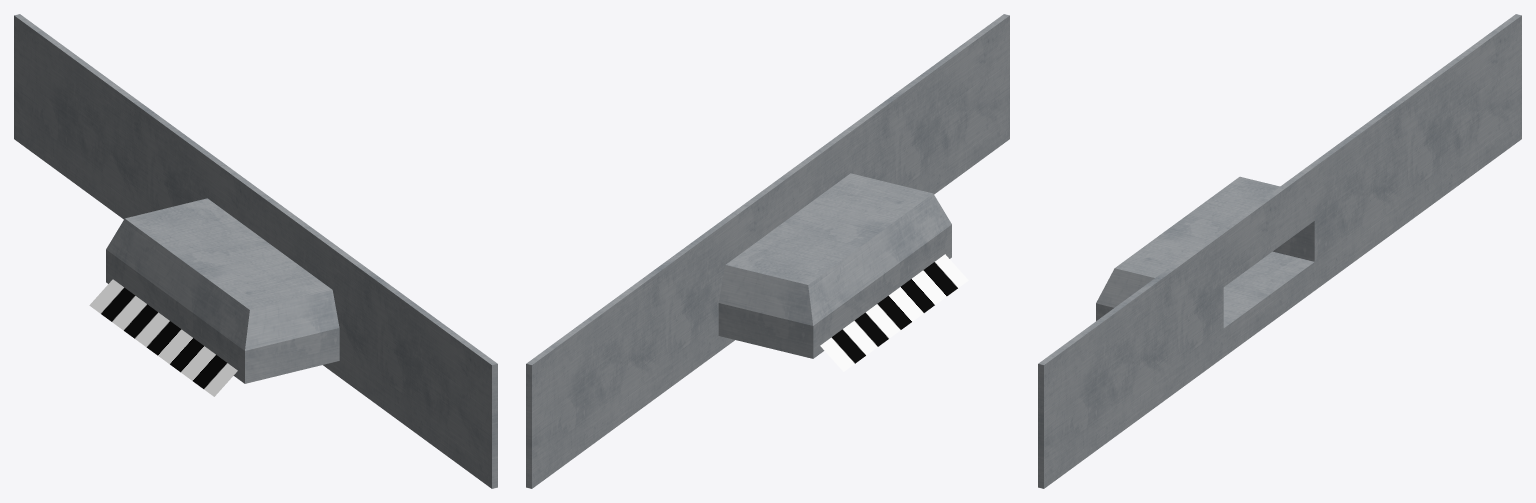
File: IO-Plate-1-Socket.obj
The picture shows the model from 3 angles, left to right: view 1: azimuth 30°, elevation 25°; view 2: azimuth 150°, elevation 25°; view 3: azimuth 330°, elevation 25°; orthographic projection.
Visible parts, largest first — view 1: IO-Plate-1-Socket; view 2: IO-Plate-1-Socket; view 3: IO-Plate-1-Socket.
Part boxes in pixels (left/top/right/bottom): IO-Plate-1-Socket: left=14, top=14, right=497, bottom=488; IO-Plate-1-Socket: left=526, top=14, right=1009, bottom=488; IO-Plate-1-Socket: left=1038, top=14, right=1521, bottom=488.
Size of the model in its own units: 1.05 by 1 by 7.
